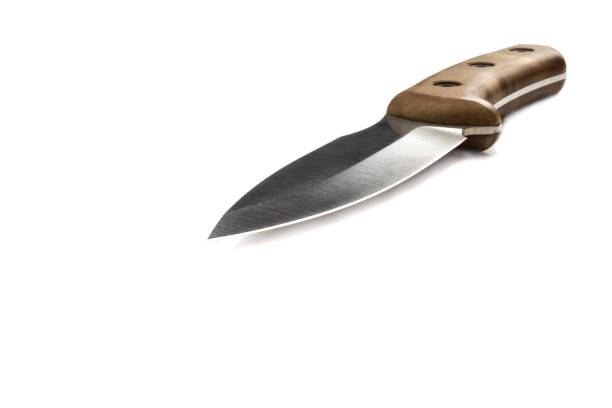knife: (205, 42, 570, 242)
